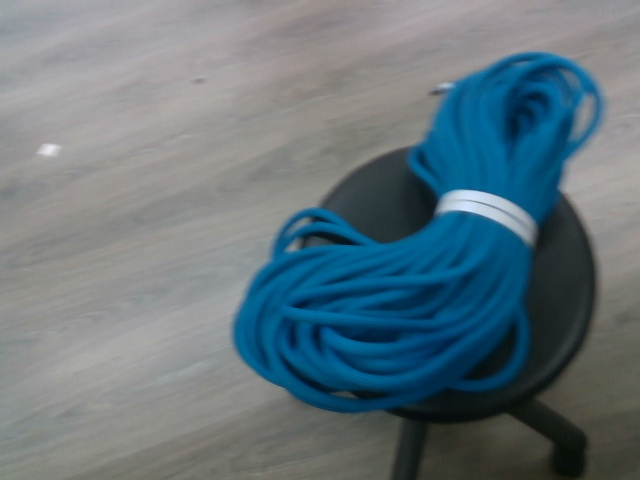rope: (223, 49, 611, 416)
